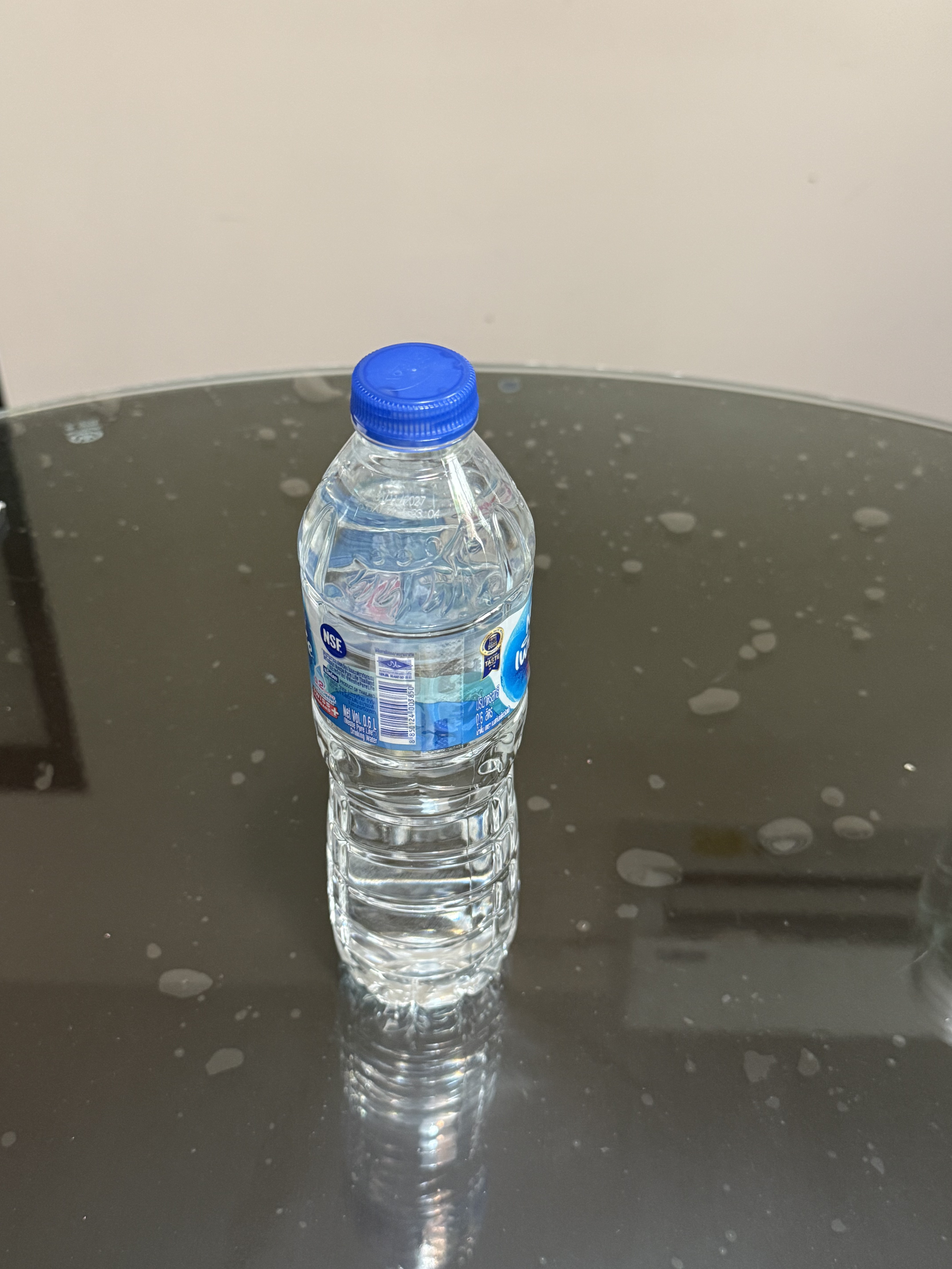closed_cap: (347, 339, 481, 448)
